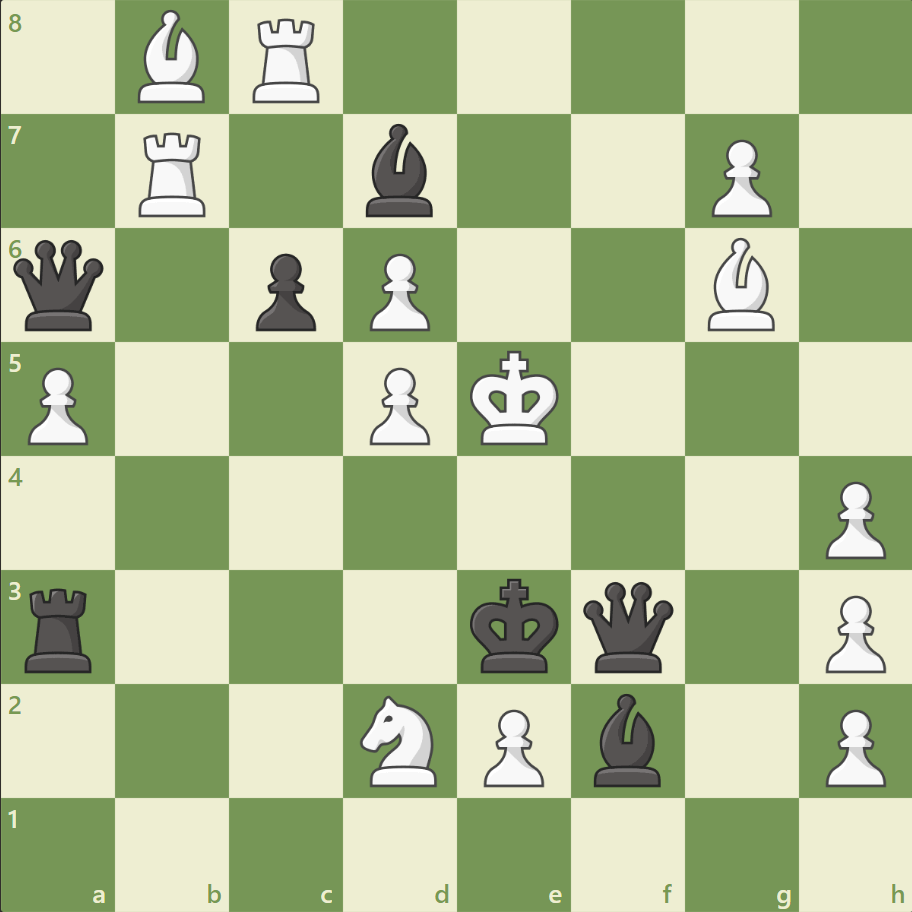B: (131, 6, 215, 109), (698, 233, 782, 336)
K: (465, 344, 565, 452)
N: (351, 688, 449, 791)
P: (701, 132, 776, 223), (20, 359, 95, 450), (474, 700, 549, 791), (361, 246, 435, 337), (361, 359, 435, 450), (815, 473, 889, 564), (815, 586, 889, 677), (815, 700, 889, 791)
R: (246, 12, 329, 109), (133, 125, 215, 222)
b: (585, 687, 669, 790), (358, 120, 442, 222)
k: (465, 571, 565, 679)
p: (247, 246, 322, 337)
q: (578, 576, 677, 676), (10, 236, 109, 335)
r: (19, 579, 102, 676)
